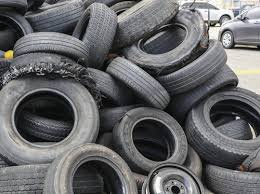tire: (1, 71, 100, 166), (186, 86, 260, 168), (111, 106, 190, 177), (125, 7, 205, 77), (44, 142, 140, 194), (153, 38, 227, 96), (105, 55, 171, 111), (72, 1, 117, 68), (12, 31, 92, 66), (219, 30, 234, 49)
